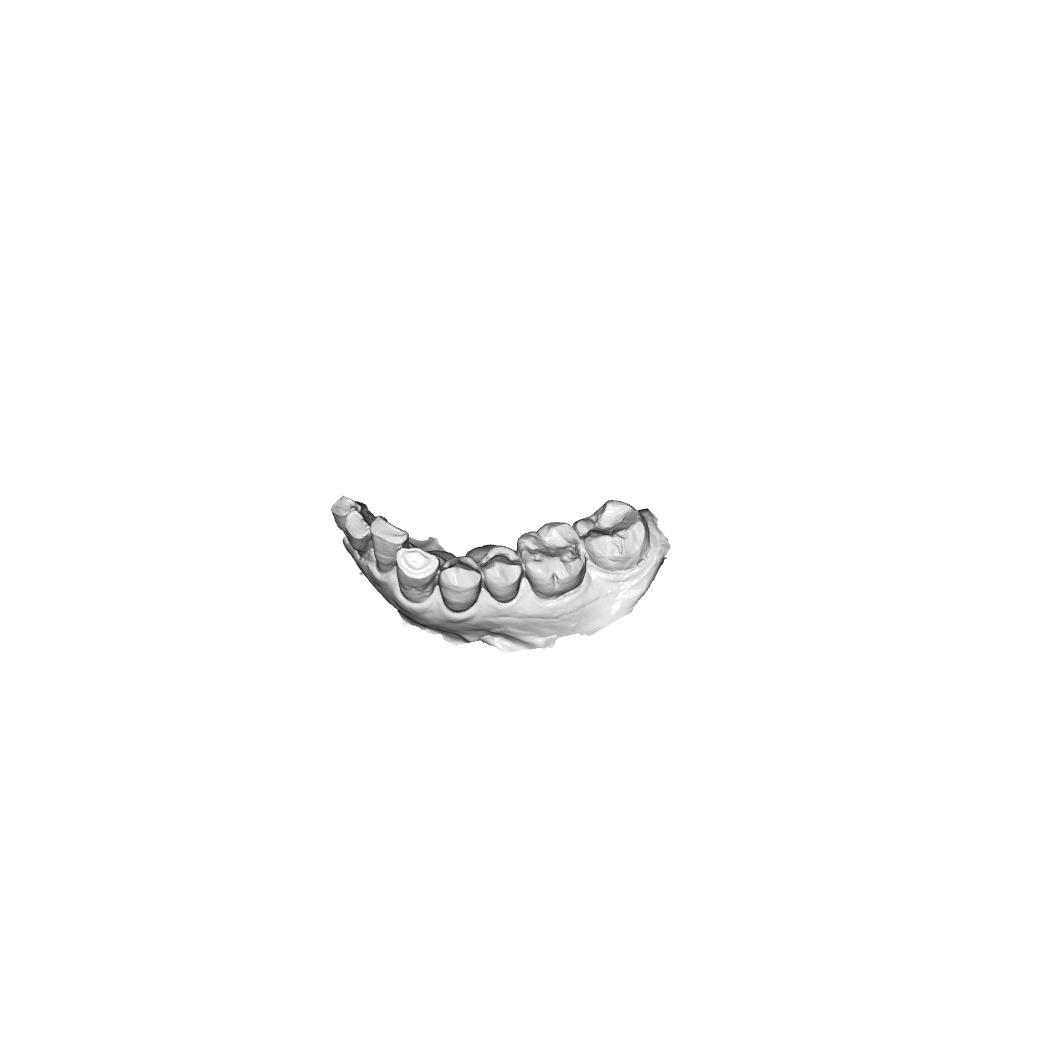canine: (395, 546, 440, 604)
incisor: (370, 515, 410, 574), (345, 509, 372, 562), (330, 495, 368, 532)
molar: (572, 499, 652, 574), (516, 521, 587, 599)
premolar: (479, 544, 524, 605), (437, 554, 483, 613)
